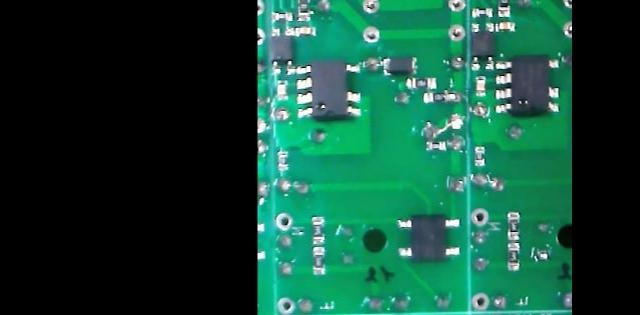chip-capacitor: (474, 73, 486, 96), (295, 24, 317, 36), (494, 19, 516, 31), (277, 78, 289, 99)
chip-resistor: (310, 214, 326, 244), (506, 209, 522, 239), (506, 240, 522, 270), (311, 245, 326, 275), (405, 75, 438, 88), (421, 90, 451, 102), (295, 0, 312, 21), (276, 148, 289, 171), (470, 5, 494, 17), (271, 10, 293, 23), (473, 143, 486, 165), (496, 0, 512, 17), (425, 139, 447, 151)
diode: (381, 55, 419, 75)
ic: (492, 51, 561, 118), (295, 60, 363, 119), (396, 212, 462, 262), (469, 20, 495, 70), (270, 25, 294, 76)
